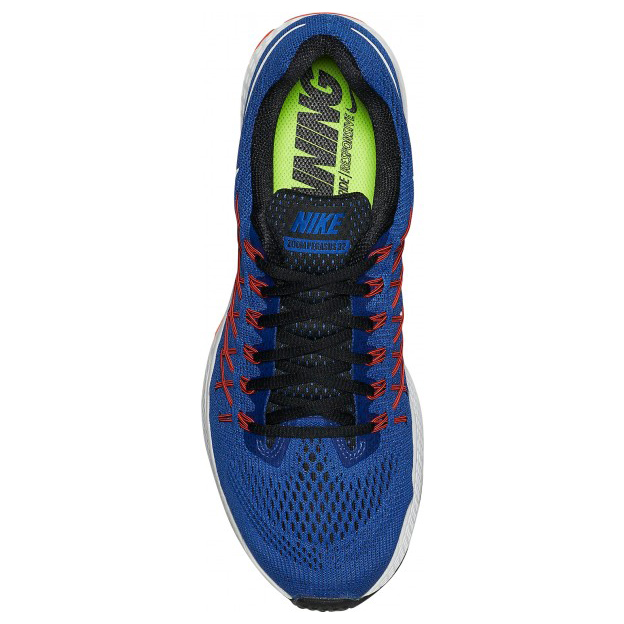Nike: (345, 81, 359, 121)
